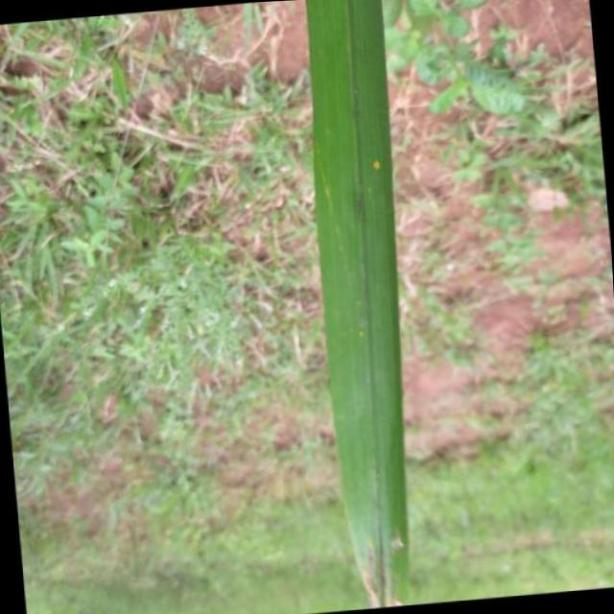Kalium: (308, 1, 412, 614)
